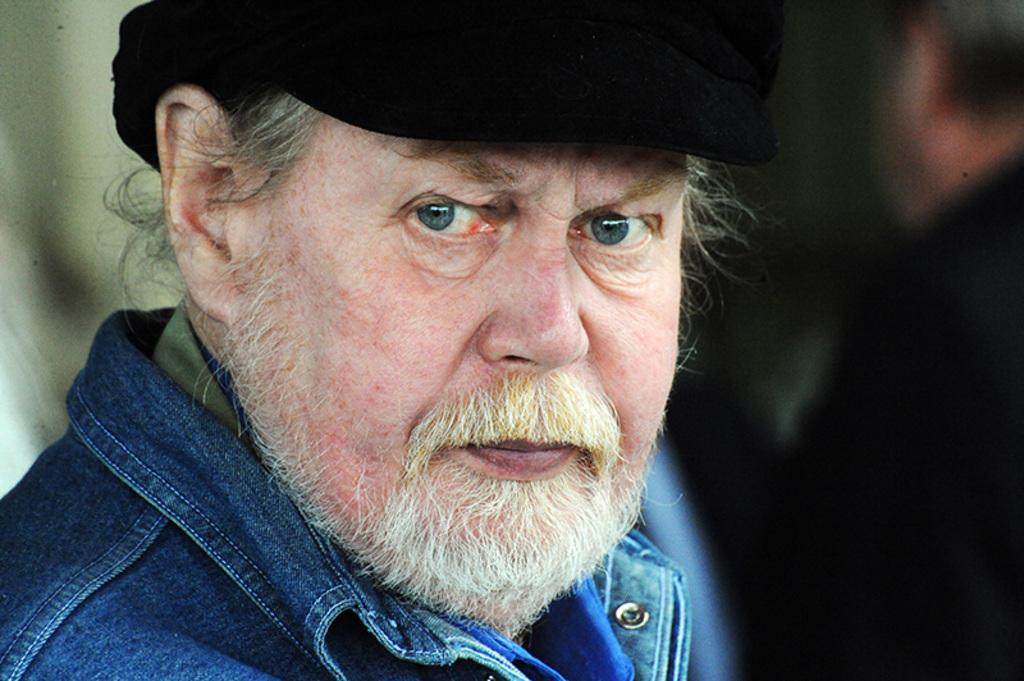Hat: (110, 0, 782, 171)
